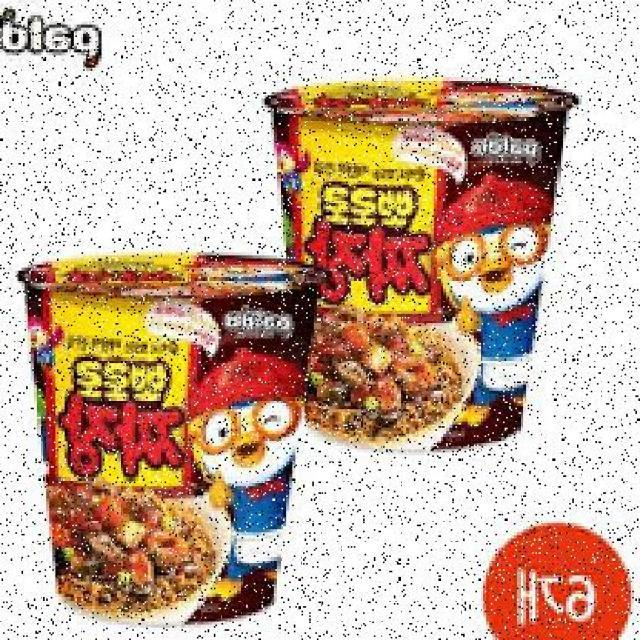Miscellaneous: (259, 59, 576, 450), (14, 248, 320, 628)
